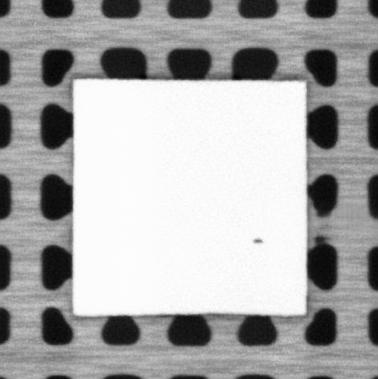DIE_INK: (251, 236, 263, 244)
